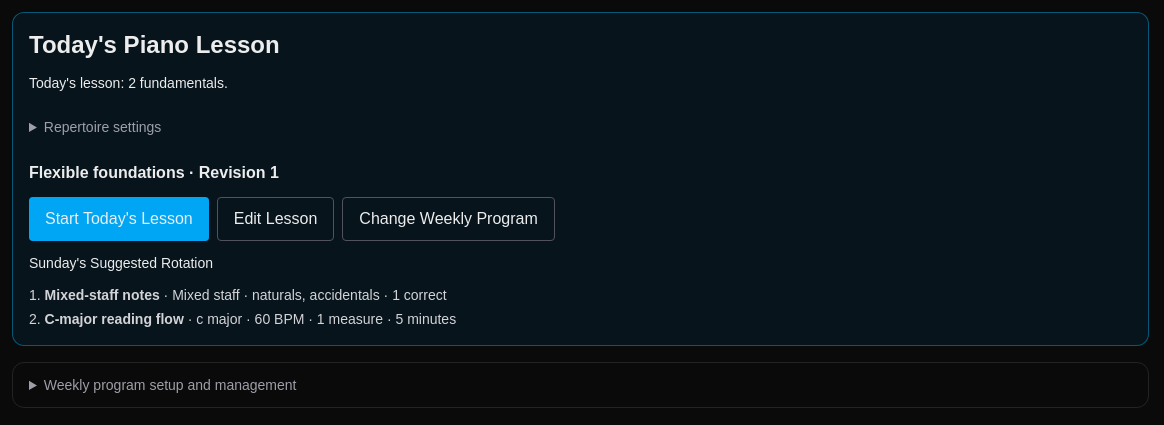
Test: one-action morning launch through the existing V2 owner › unavailable repertoire does not block the normal authored lesson
Click the button "Start Today's Lesson": (119,219) [29,197,209,241]
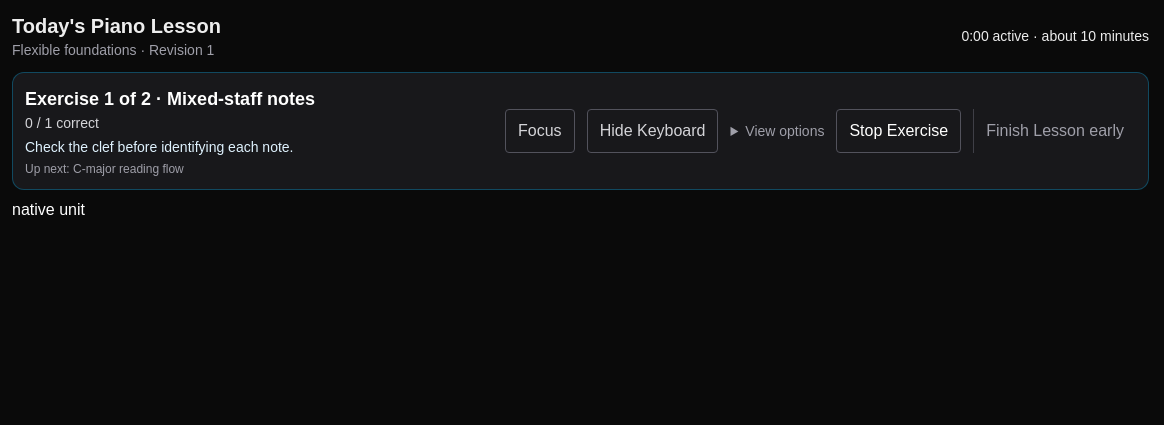
Now the element with test id "native" is shown, box [12,198,85,222]
